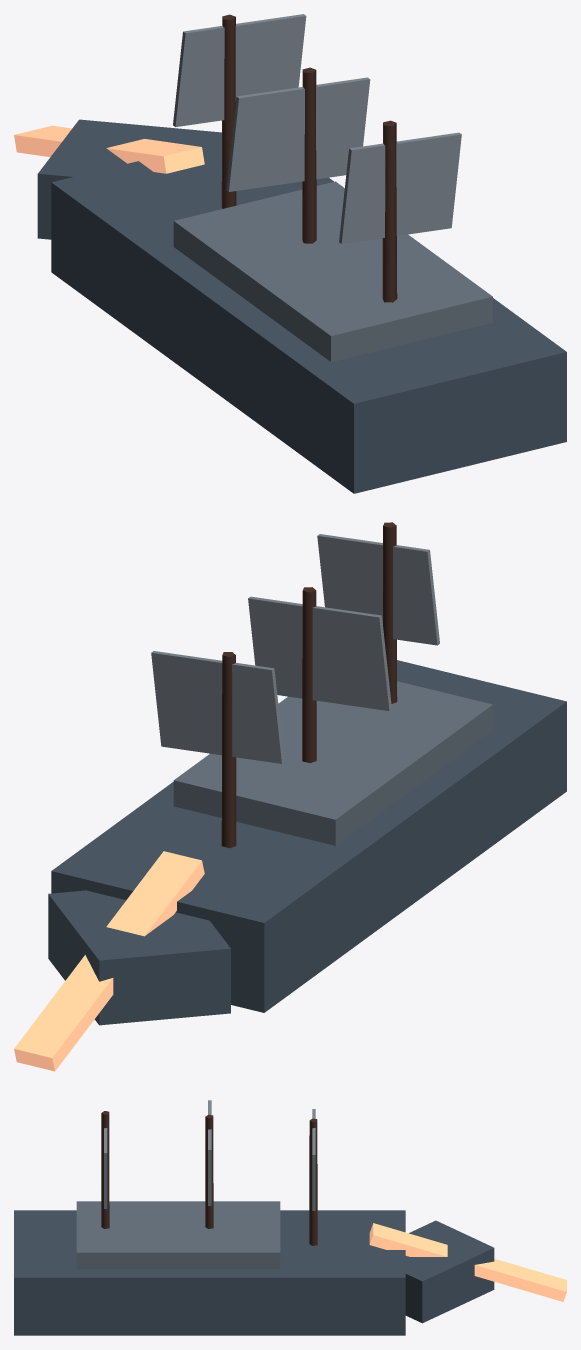
File: ship_main_56_lod2.glb
The picture shows the model from 3 angles, top to bottom: view 1: azimuth 30°, elevation 25°; view 2: azimuth 150°, elevation 25°; view 3: azimuth 270°, elevation 25°; orthographic projection. The views are drawn at different scales.
Parts seen in each view (by area): view 1: Hull, Deck_0, Sail_1, Sail_2, Sail_0, Bow, ProwIdentity, Mast_2, Mast_1, Mast_0; view 2: Hull, Deck_0, Bow, Sail_1, Sail_0, ProwIdentity, Sail_2, Mast_0, Mast_1, Mast_2; view 3: Hull, Deck_0, Bow, ProwIdentity, Mast_0, Mast_2, Mast_1, Sail_0, Sail_1, Sail_2.
Boxes of the visible parts, <box> form: Hull: <box>51,141,566,493</box>; Deck_0: <box>173,181,492,361</box>; Sail_1: <box>226,77,370,191</box>; Sail_2: <box>339,132,461,243</box>; Sail_0: <box>173,14,306,126</box>; Bow: <box>37,119,221,239</box>; ProwIdentity: <box>14,125,204,173</box>; Mast_2: <box>382,120,397,302</box>; Mast_1: <box>302,67,316,243</box>; Mast_0: <box>221,14,236,208</box>; Hull: <box>51,660,566,1012</box>; Deck_0: <box>173,681,492,845</box>; Bow: <box>48,890,230,1025</box>; Sail_1: <box>248,596,391,711</box>; Sail_0: <box>151,651,284,763</box>; ProwIdentity: <box>14,851,204,1071</box>; Sail_2: <box>317,534,439,645</box>; Mast_0: <box>221,652,236,848</box>; Mast_1: <box>302,587,316,763</box>; Mast_2: <box>383,522,397,703</box>; Hull: <box>14,1210,405,1335</box>; Deck_0: <box>76,1201,280,1269</box>; Bow: <box>405,1220,494,1323</box>; ProwIdentity: <box>369,1223,566,1301</box>; Mast_0: <box>309,1118,317,1245</box>; Mast_2: <box>101,1111,109,1228</box>; Mast_1: <box>205,1114,213,1228</box>; Sail_0: <box>312,1109,315,1210</box>; Sail_1: <box>208,1100,211,1205</box>; Sail_2: <box>104,1111,107,1208</box>.
Bounding box in the file's own units: 2.44 × 3.21 × 8.49.
